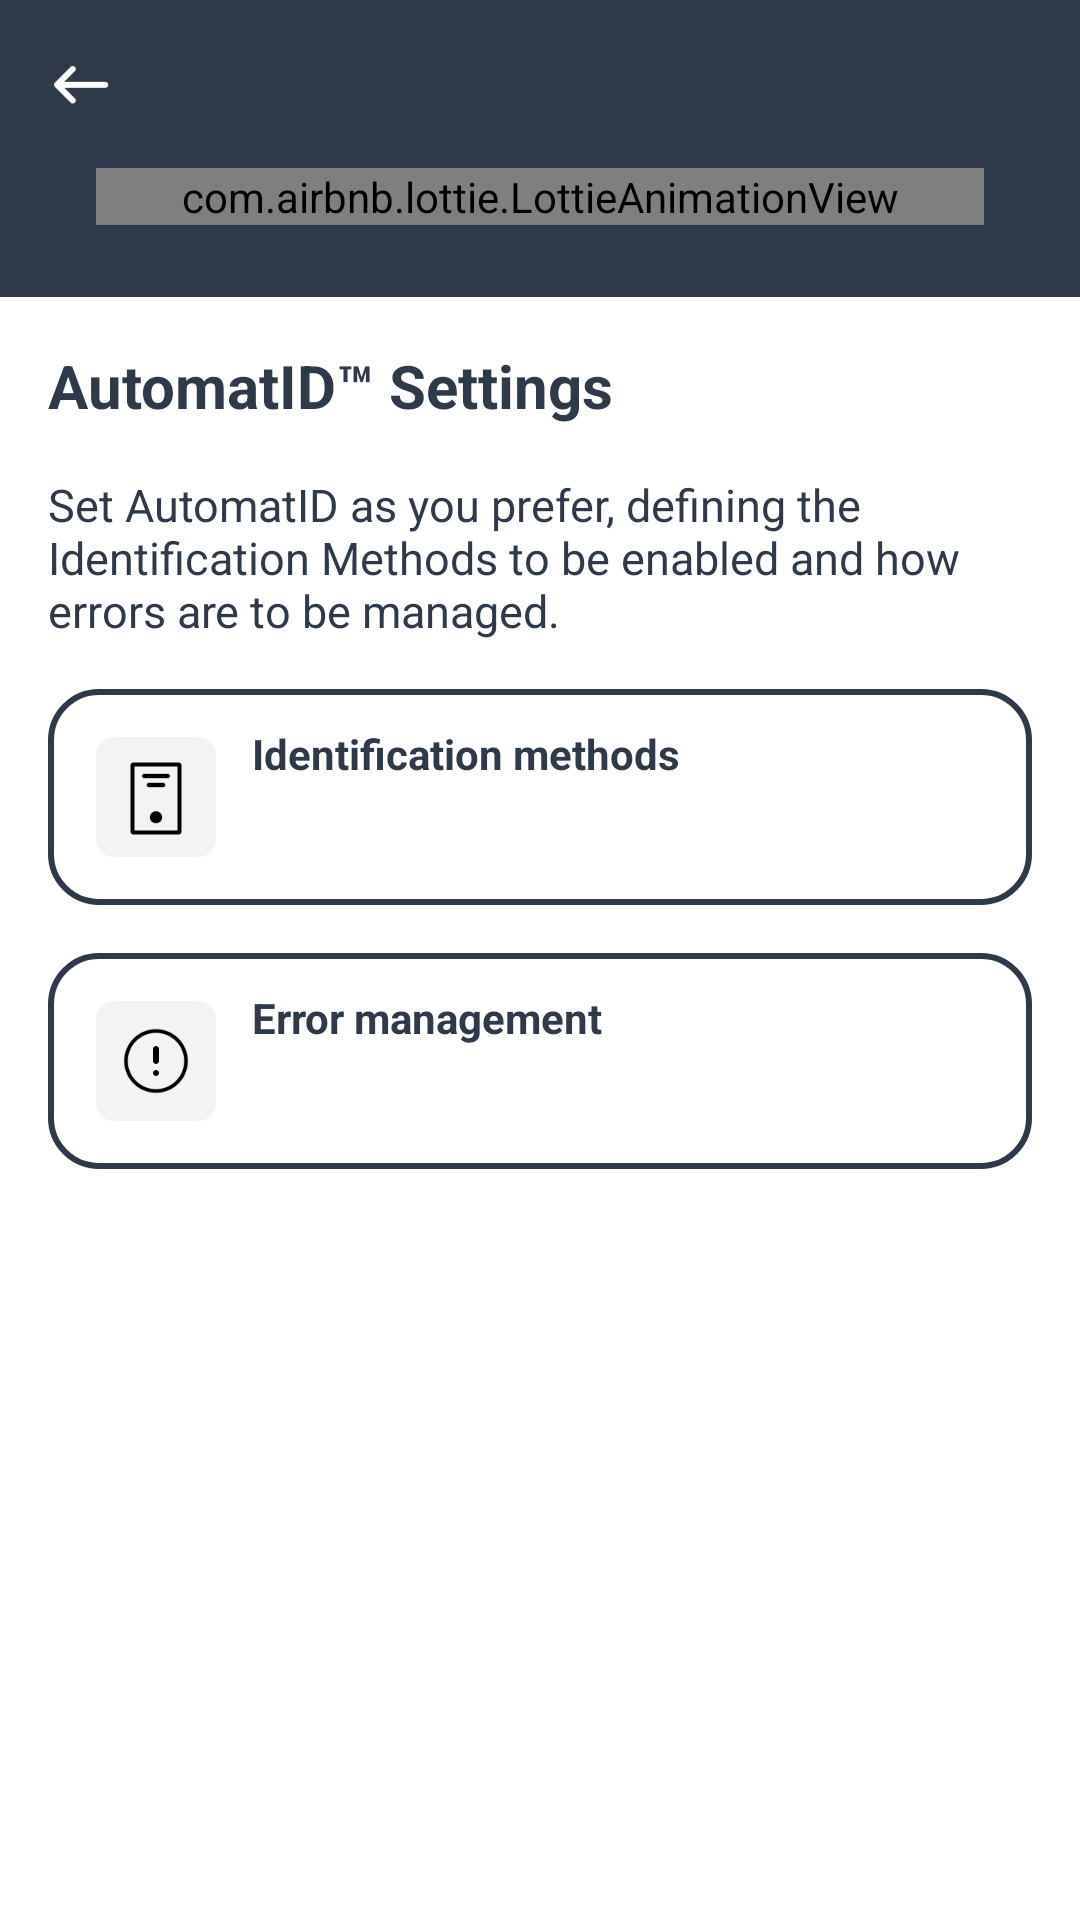

Icon click points for this 1080w x 1920h phone screenshot, format (x=x, y=y):
sci documents: (x=156, y=797)
